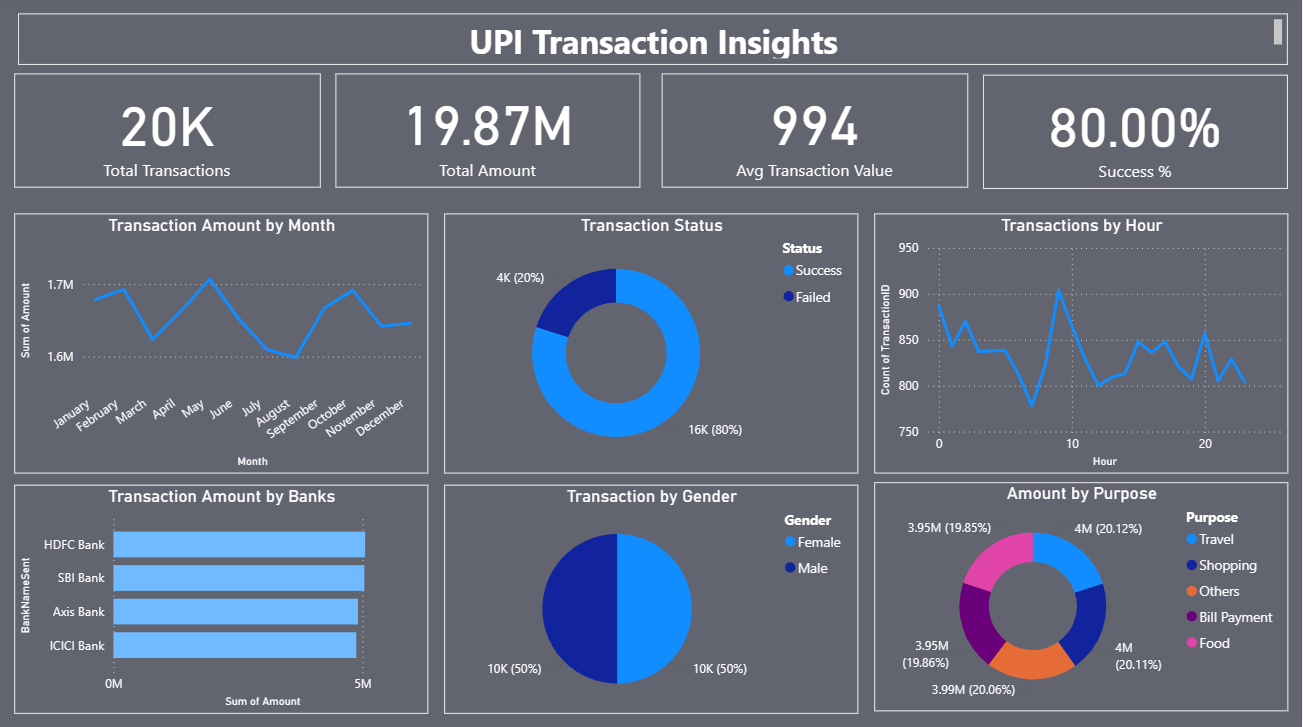

Layout of this report page (visuals, bound fields, positions):
{"tool":"powerbi","page":{"name":"Page 1","canvas":[1280,720],"ordinal":0},"visuals":[{"type":"card","fields":{"Values":["UPI Transactions.Total Transactions"]},"box":[16,76.1,300.6,112],"z":0},{"type":"card","fields":{"Values":["UPI Transactions.Total Amount"]},"box":[331.3,76.1,299.4,111.7],"z":1000},{"type":"card","fields":{"Values":["UPI Transactions.Avg Transaction Value"]},"box":[651.5,76.1,300.6,111.7],"z":2000},{"type":"card","fields":{"Values":["UPI Transactions.Success %"]},"box":[966.9,77.3,299.4,111.7],"z":3000},{"type":"lineChart","title":"Transaction Amount by Month","fields":{"Category":["UPI Transactions.TransactionDate.Variation.Date Hierarchy.Month"],"Y":["Sum(UPI Transactions.Amount)"]},"box":[16,213.5,406.1,255.2],"z":4000},{"type":"donutChart","title":"Transaction Status","fields":{"Category":["UPI Transactions.Status"],"Y":["CountNonNull(UPI Transactions.TransactionID)"]},"box":[438,213.5,406.1,255.2],"z":5000},{"type":"donutChart","title":"Amount by Purpose","fields":{"Category":["UPI Transactions.Purpose"],"Y":["UPI Transactions.Total Amount"]},"box":[860.1,477.3,406.1,224.5],"z":6000},{"type":"pieChart","title":"Transaction by Gender","fields":{"Category":["UPI Transactions.Gender"],"Y":["CountNonNull(UPI Transactions.TransactionID)"]},"box":[438,479.8,406.1,225],"z":7000},{"type":"barChart","title":"Transaction Amount by Banks","fields":{"Y":["Sum(UPI Transactions.Amount)"],"Category":["UPI Transactions.BankNameSent"]},"box":[16,479.8,406.1,224.5],"z":8000},{"type":"lineChart","title":"Transactions by Hour","fields":{"Category":["UPI Transactions.Hour"],"Y":["CountNonNull(UPI Transactions.TransactionID)"]},"box":[860.1,213.5,406.1,255.2],"z":9000},{"type":"textbox","box":[19.6,17.2,1246.6,50.3],"z":12000}]}

Visuals, with their boxes in screenshot pixels (x1, y1, x2, y2), scaled from the page's 1280x720 canvas onto the 1303x727 screenshot:
card - UPI Transactions.Total Transactions: 16/77/322/190
card - UPI Transactions.Total Amount: 337/77/642/190
card - UPI Transactions.Avg Transaction Value: 663/77/969/190
card - UPI Transactions.Success %: 984/78/1289/191
"Transaction Amount by Month" lineChart: 16/216/430/473
"Transaction Status" donutChart: 446/216/859/473
"Amount by Purpose" donutChart: 876/482/1289/709
"Transaction by Gender" pieChart: 446/484/859/712
"Transaction Amount by Banks" barChart: 16/484/430/711
"Transactions by Hour" lineChart: 876/216/1289/473
textbox: 20/17/1289/68
